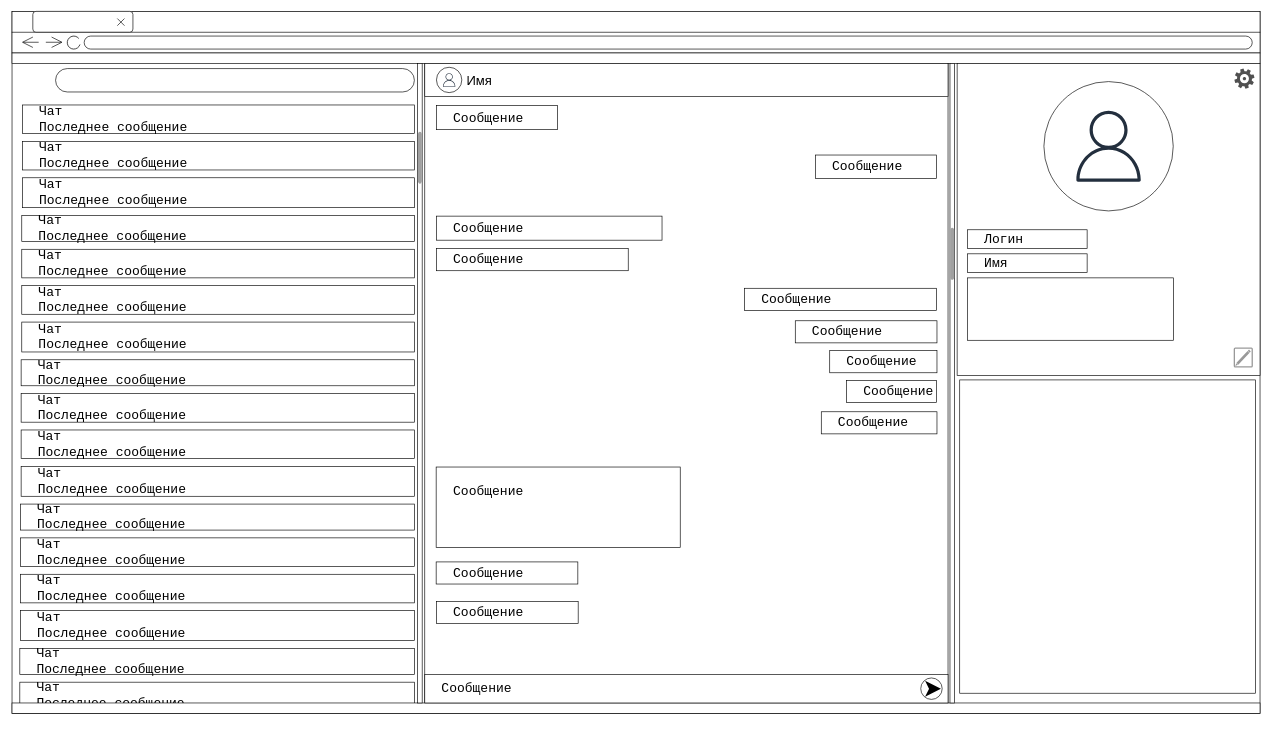
Image size: 1271x735. Some labels were removed from this diagram. The box of each missing label's shape, as (x1, y1, x2, y2) in pixels:
https://replica.ru/: (84, 35, 1252, 49)
Описание профиля: (967, 277, 1174, 340)
Реплика: (32, 11, 133, 32)
Эмодзи: (959, 379, 1255, 693)
